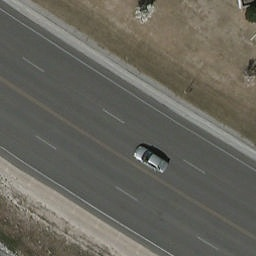car: (133, 146, 169, 174)
